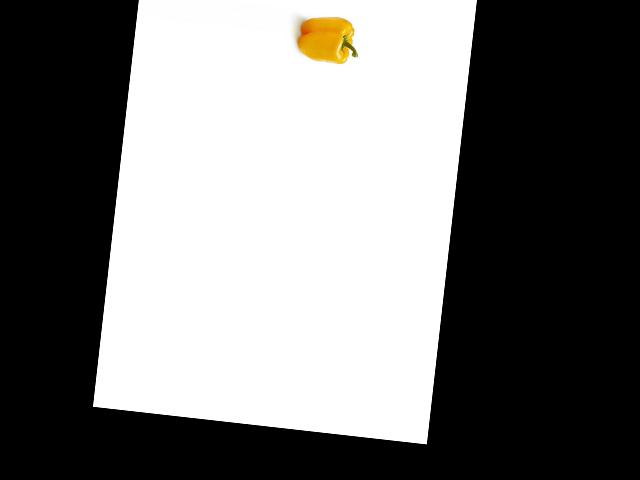bell_pepper: (294, 12, 364, 72)
